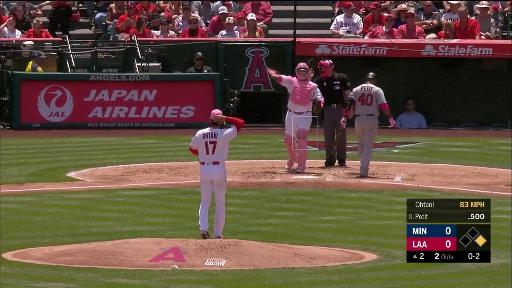pitcher: (188, 109, 244, 239)
